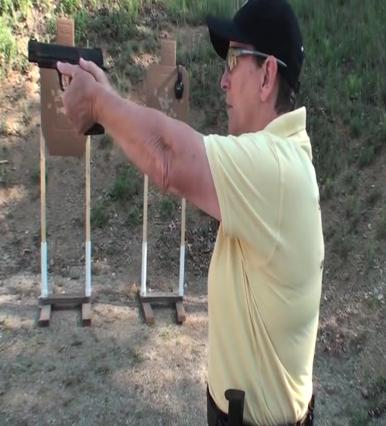pistol: (26, 39, 106, 136)
